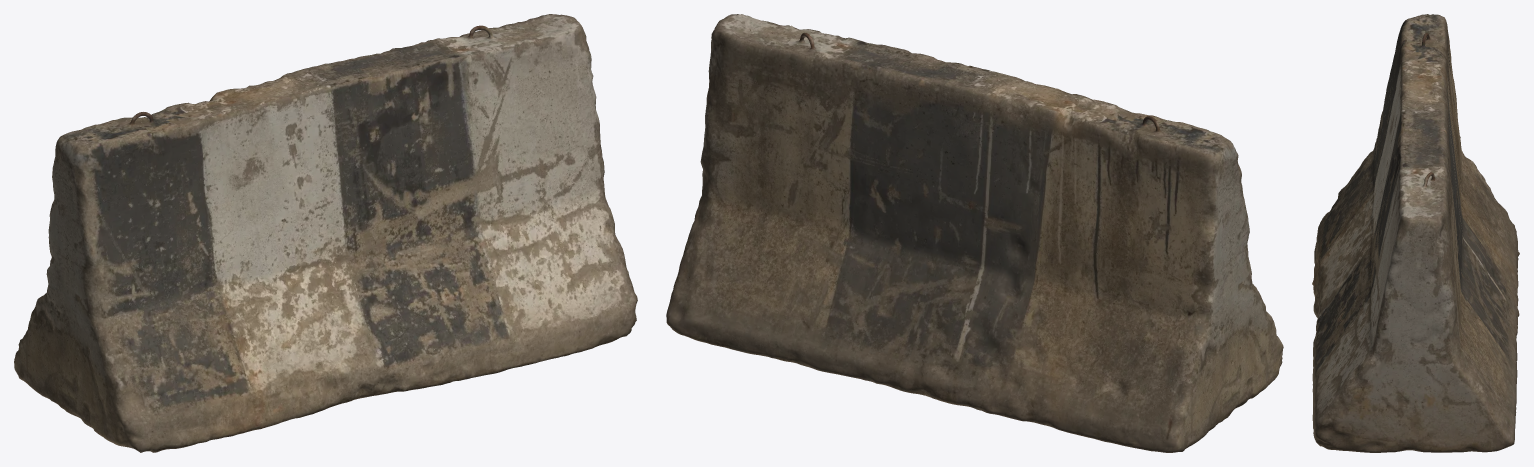
The model's file is concrete_road_barrier.glb.
3 renders of one model, left to right at view 1: azimuth 30°, elevation 25°; view 2: azimuth 150°, elevation 25°; view 3: azimuth 270°, elevation 25°, orthographic. The views are drawn at different scales.
Parts seen in each view (by area): view 1: concrete_road_barrier; view 2: concrete_road_barrier; view 3: concrete_road_barrier.
Boxes of the visible parts, bbox=[...] form: concrete_road_barrier: bbox=[14, 14, 637, 452]; concrete_road_barrier: bbox=[666, 14, 1283, 452]; concrete_road_barrier: bbox=[1312, 14, 1519, 452].
Bounding box in the file's own units: 1.55 × 0.8311 × 0.6388.
1 material, 1 textured.
